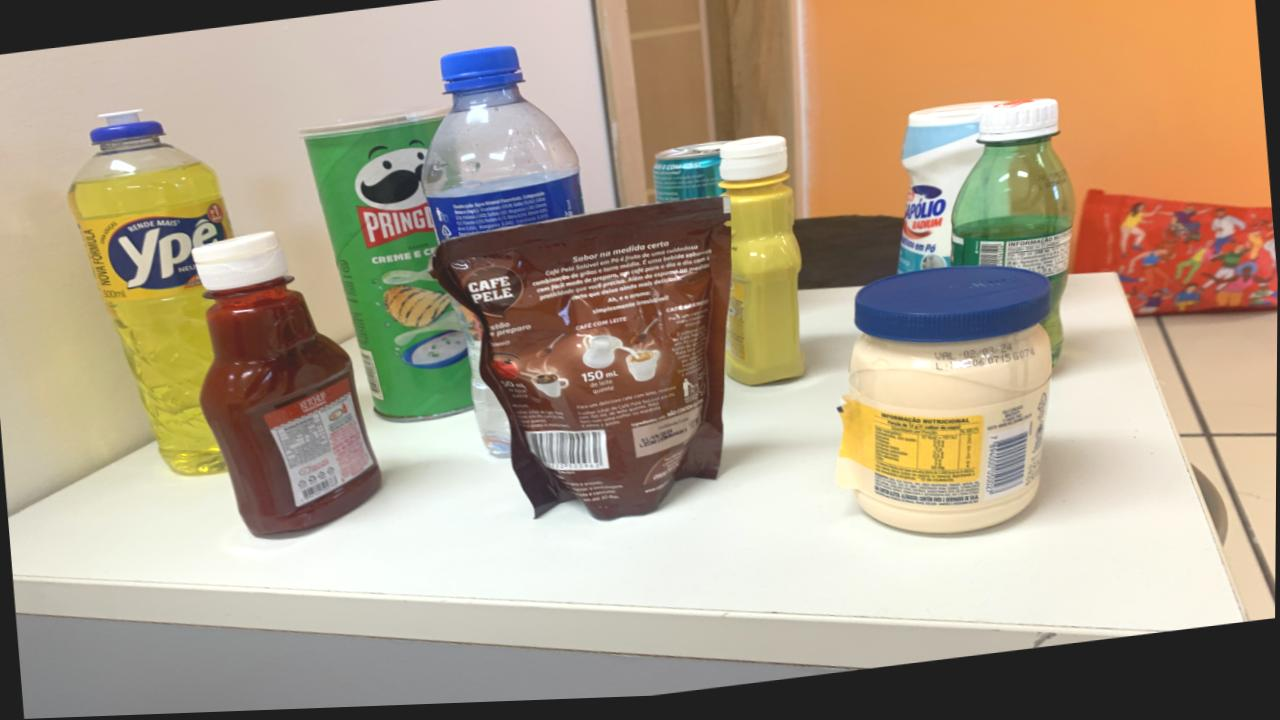Cleaner-Cleanup_Items: (897, 109, 996, 281)
Coffee-Pantry_Items: (433, 204, 730, 524)
Detergent-Cleanup_Items: (67, 112, 232, 477)
Guarana-Drinks: (951, 107, 1076, 372)
Ketchup-Pantry_Items: (193, 234, 381, 538)
Mayonnaise-Pantry_Items: (838, 273, 1053, 540)
Mustard-Pantry_Items: (719, 141, 805, 392)
Pringles-Snacks: (301, 114, 473, 424)
Tea-Drinks: (652, 146, 725, 207)
Water_Bottle-Drinks: (421, 50, 585, 244), (457, 309, 511, 461)
